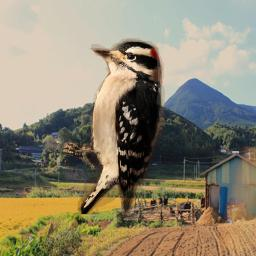Woodpecker: (60, 36, 165, 214)
